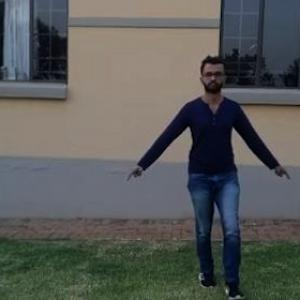land: (147, 74, 277, 255)
